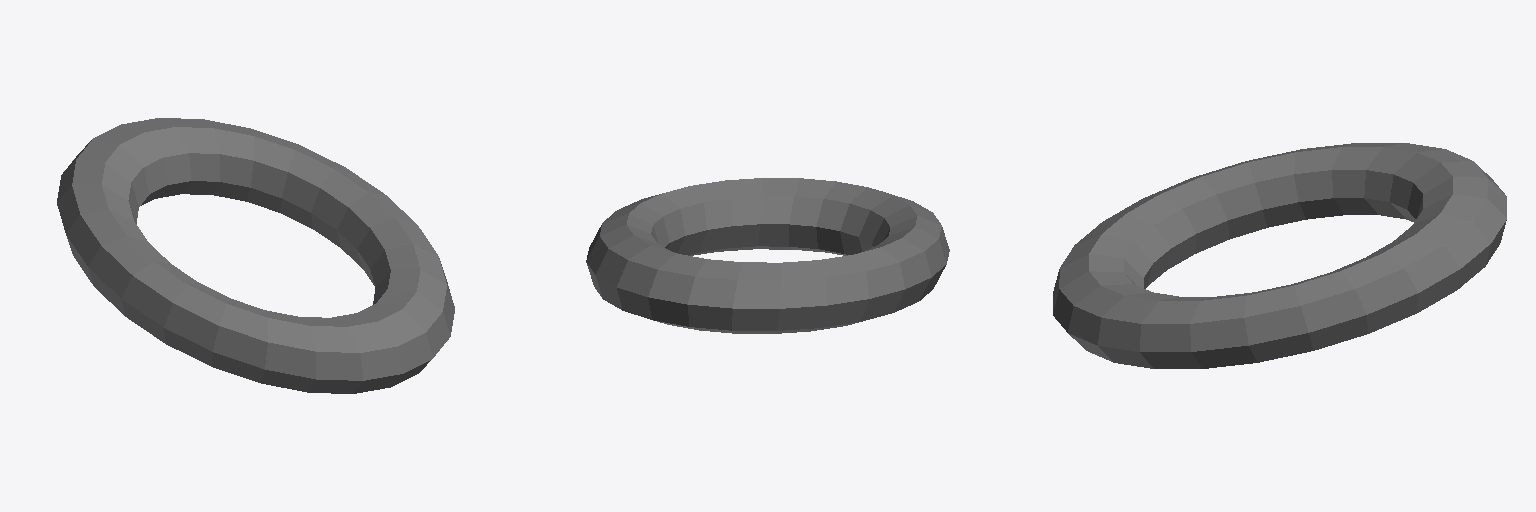
File: Ring.obj
3 renders of one model, left to right at view 1: azimuth 30°, elevation 25°; view 2: azimuth 150°, elevation 25°; view 3: azimuth 270°, elevation 25°, orthographic.
Parts seen in each view (by area): view 1: Ring:Mesh; view 2: Ring:Mesh; view 3: Ring:Mesh.
Part boxes in pixels (x1,y1,x2,y2): Ring:Mesh: (57, 118, 454, 393); Ring:Mesh: (586, 178, 949, 333); Ring:Mesh: (1053, 143, 1506, 368).
Bounding box in the file's own units: 1.99 × 0.8273 × 2.57.